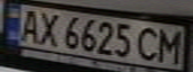2: (93, 19, 118, 56)
5: (112, 20, 139, 58)
6: (60, 15, 84, 51), (78, 16, 100, 53)
A: (15, 7, 45, 43)
C: (133, 25, 163, 62)
M: (154, 27, 184, 64)
X: (33, 10, 63, 47)
